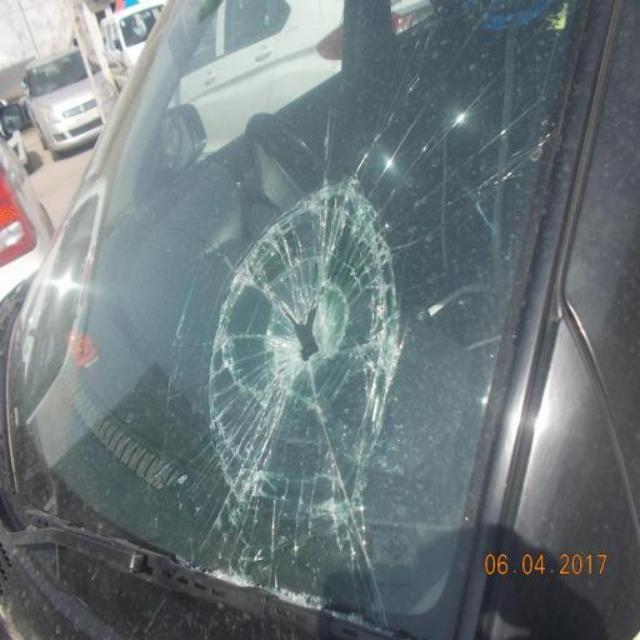glass shatter: (171, 157, 451, 547)
